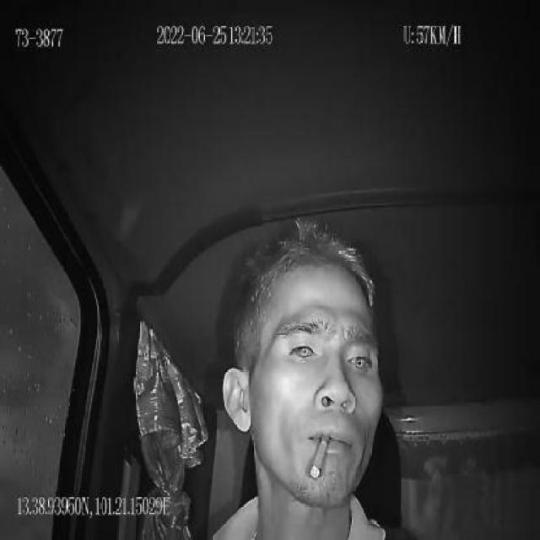smoking: (309, 429, 330, 482)
